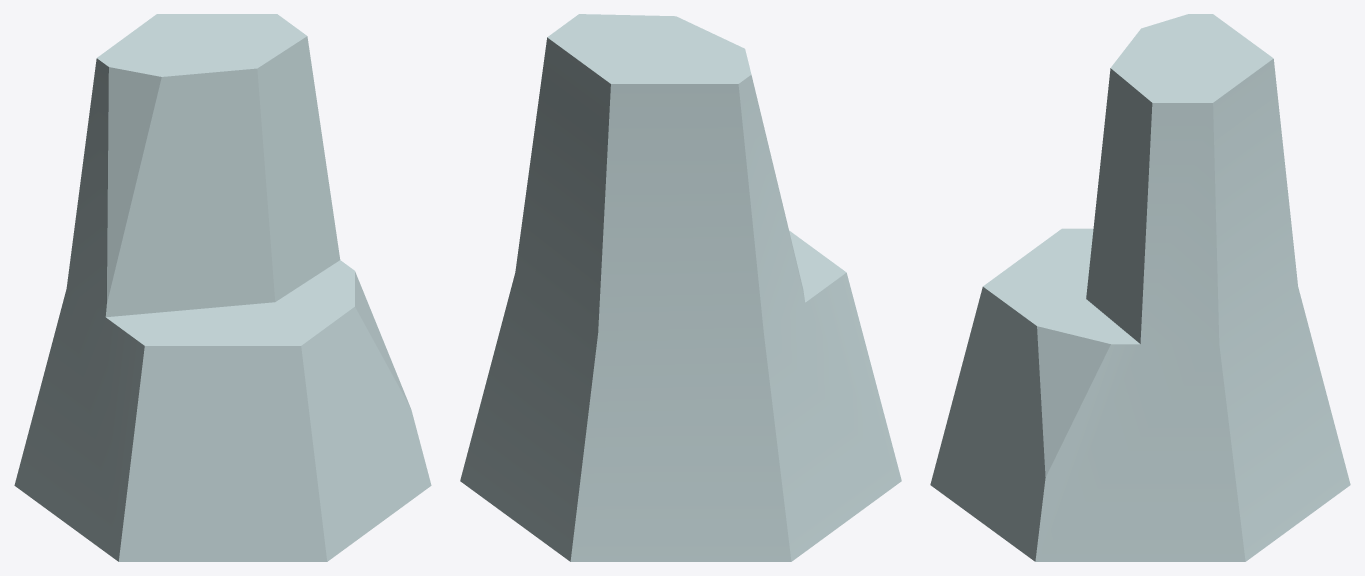
The model's file is stone_tall6.glb.
The picture shows the model from 3 angles, left to right: view 1: azimuth 30°, elevation 25°; view 2: azimuth 150°, elevation 25°; view 3: azimuth 270°, elevation 25°; orthographic projection. The views are drawn at different scales.
Visible parts, largest first — view 1: stone_tall6; view 2: stone_tall6; view 3: stone_tall6.
Part boxes in pixels (left/top/right/bottom): stone_tall6: left=14, top=14, right=431, bottom=561; stone_tall6: left=460, top=14, right=901, bottom=561; stone_tall6: left=930, top=14, right=1350, bottom=561.
Size of the model in its own units: 0.4437 by 0.5737 by 0.5123.
